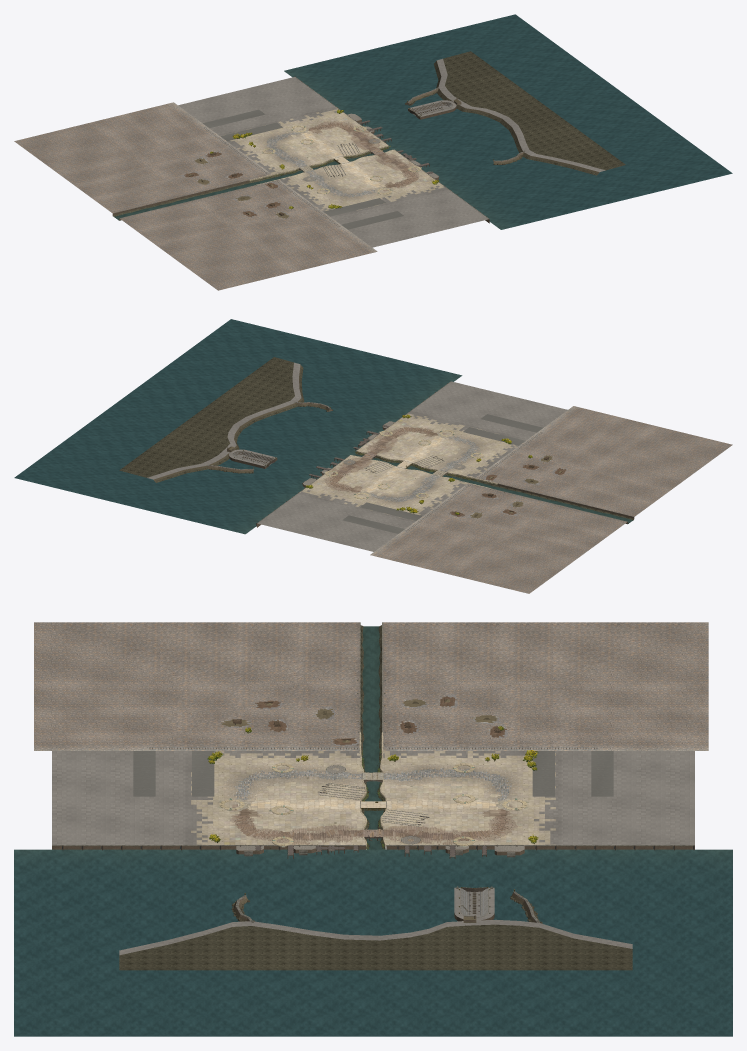
Rendered from harbor.glb.
3 renders of one model, top to bottom at view 1: azimuth 30°, elevation 25°; view 2: azimuth 150°, elevation 25°; view 3: azimuth 270°, elevation 25°, orthographic. The views are drawn at different scales.
Parts seen in each view (by area): view 1: Estuary - Water estuary, West warehouse courts - Hand-laid harbour setts, Floor - Old poured quay slabs, East graving dock - Exposed tidal silt, Floor - Sun-dried quay limestone, Floor - Lock haulway ashlar, Floor - Repair floor, East graving dock - Old poured quay slabs, Floor - Sand-filled street granite, Floor - Hand-laid harbour setts, Floor - Salt-silvered plank ends, Floor road planking - Silvered oak repair bays (+2 smaller); view 2: Estuary - Water estuary, West warehouse courts - Hand-laid harbour setts, Floor - Old poured quay slabs, East graving dock - Exposed tidal silt, Floor - Sun-dried quay limestone, Floor - Lock haulway ashlar, Floor - Repair floor, East graving dock - Old poured quay slabs, Floor - Sand-filled street granite, Floor - Hand-laid harbour setts, Floor - Salt-silvered plank ends, Floor road planking - Silvered oak repair bays (+2 smaller); view 3: Estuary - Water estuary, West warehouse courts - Hand-laid harbour setts, Floor - Old poured quay slabs, East graving dock - Exposed tidal silt, Floor - Sun-dried quay limestone, Floor - Lock haulway ashlar, Floor - Repair floor, East graving dock - Old poured quay slabs, Floor - Sand-filled street granite, Floor - Hand-laid harbour setts, Quay wall - Old dock masonry, Floor - Salt-silvered plank ends (+8 smaller).
Boxes of the visible parts, left/top/right/bottom form: Estuary - Water estuary: left=113, top=14, right=732, bottom=229; West warehouse courts - Hand-laid harbour setts: left=14, top=102, right=377, bottom=290; Floor - Old poured quay slabs: left=178, top=77, right=488, bottom=247; East graving dock - Exposed tidal silt: left=434, top=51, right=625, bottom=175; Floor - Sun-dried quay limestone: left=223, top=107, right=444, bottom=210; Floor - Lock haulway ashlar: left=291, top=127, right=393, bottom=190; Floor - Repair floor: left=203, top=109, right=403, bottom=229; East graving dock - Old poured quay slabs: left=410, top=58, right=605, bottom=172; Floor - Sand-filled street granite: left=257, top=129, right=383, bottom=200; Floor - Hand-laid harbour setts: left=266, top=132, right=376, bottom=197; Floor - Salt-silvered plank ends: left=300, top=125, right=415, bottom=191; Floor road planking - Silvered oak repair bays: left=316, top=122, right=418, bottom=187; Estuary - Water estuary: left=14, top=319, right=633, bottom=534; West warehouse courts - Hand-laid harbour setts: left=370, top=406, right=732, bottom=593; Floor - Old poured quay slabs: left=258, top=381, right=567, bottom=551; East graving dock - Exposed tidal silt: left=119, top=357, right=304, bottom=482; Floor - Sun-dried quay limestone: left=299, top=413, right=517, bottom=520; Floor - Lock haulway ashlar: left=350, top=432, right=452, bottom=495; Floor - Repair floor: left=342, top=414, right=543, bottom=533; East graving dock - Old poured quay slabs: left=147, top=362, right=301, bottom=479; Floor - Sand-filled street granite: left=365, top=434, right=488, bottom=505; Floor - Hand-laid harbour setts: left=370, top=436, right=480, bottom=502; Floor - Salt-silvered plank ends: left=331, top=429, right=446, bottom=495; Floor road planking - Silvered oak repair bays: left=328, top=427, right=431, bottom=490; Estuary - Water estuary: left=14, top=626, right=732, bottom=1036; West warehouse courts - Hand-laid harbour setts: left=34, top=622, right=708, bottom=750; Floor - Old poured quay slabs: left=52, top=751, right=694, bottom=845; East graving dock - Exposed tidal silt: left=119, top=924, right=632, bottom=970; Floor - Sun-dried quay limestone: left=191, top=751, right=555, bottom=845; Floor - Lock haulway ashlar: left=238, top=793, right=508, bottom=816; Floor - Repair floor: left=133, top=751, right=613, bottom=796; East graving dock - Old poured quay slabs: left=119, top=888, right=632, bottom=955; Floor - Sand-filled street granite: left=220, top=762, right=525, bottom=804; Floor - Hand-laid harbour setts: left=234, top=768, right=511, bottom=801; Quay wall - Old dock masonry: left=52, top=846, right=693, bottom=849; Floor - Salt-silvered plank ends: left=231, top=804, right=515, bottom=845.
Bounding box in the file's own units: 5618 × 97.91 × 4160.
43 materials, 33 textured.
